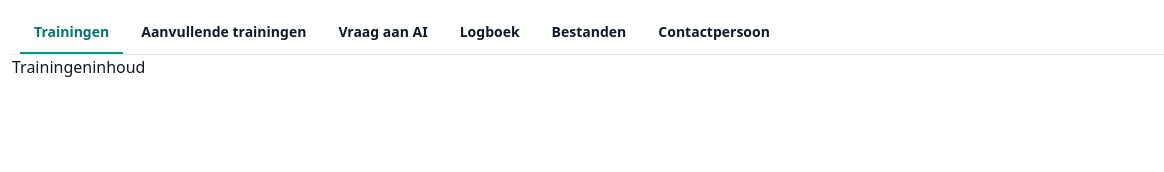
Test: SchooldetailTabs › klikken op 'Bestanden' toont uitsluitend dat paneel
Click the tab "Bestanden" at (589, 33), box [538, 12, 640, 54]
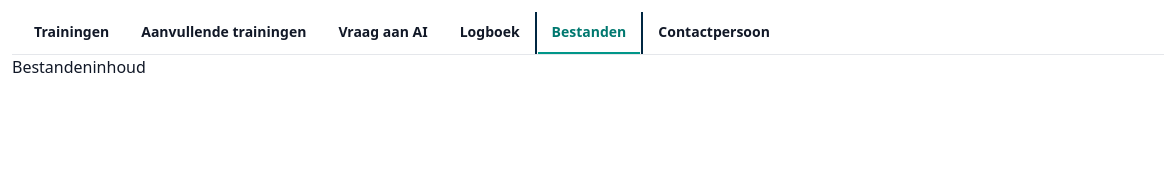
Now the text "Bestandeninhoud" is shown, box [12, 56, 146, 78]
Now the text with test id "paneel-trainingen" is gone
